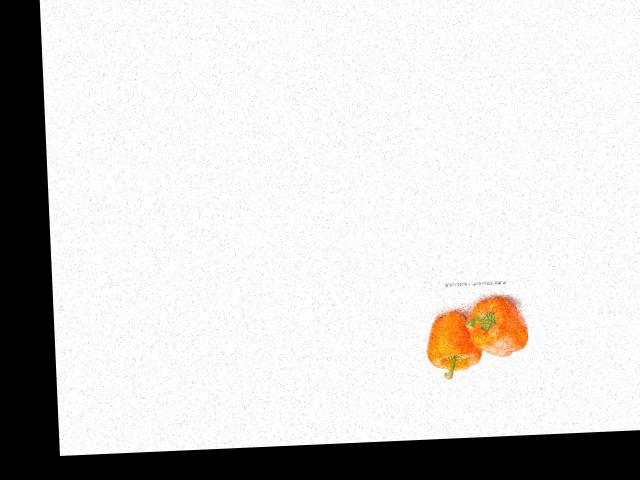bell_pepper: (462, 289, 531, 360)
